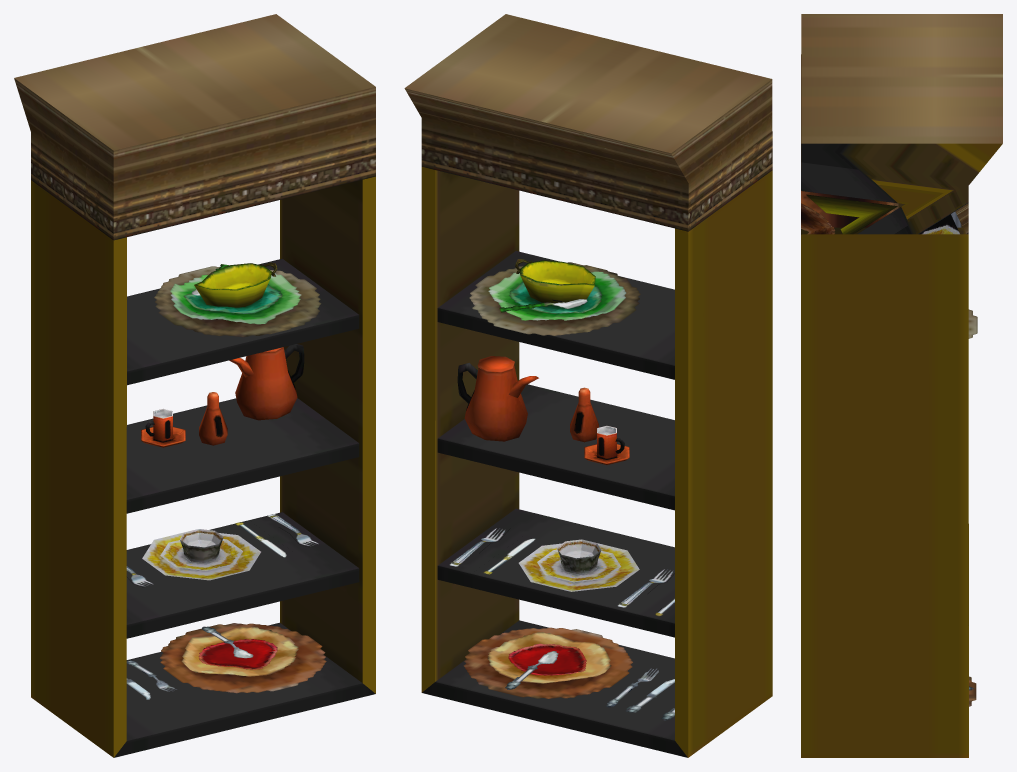
The model's file is furni_0200322_03.FBX.
3 renders of one model, left to right at view 1: azimuth 30°, elevation 25°; view 2: azimuth 150°, elevation 25°; view 3: azimuth 270°, elevation 25°, orthographic.
Visible parts, largest first — view 1: furni_0200322_03; view 2: furni_0200322_03; view 3: furni_0200322_03.
Part boxes in pixels (x1=…): furni_0200322_03: x1=14, y1=14, x2=375, y2=757; furni_0200322_03: x1=404, y1=14, x2=772, y2=757; furni_0200322_03: x1=801, y1=14, x2=1002, y2=757.
Bounding box in the file's own units: 81.43 × 180 × 53.62.
